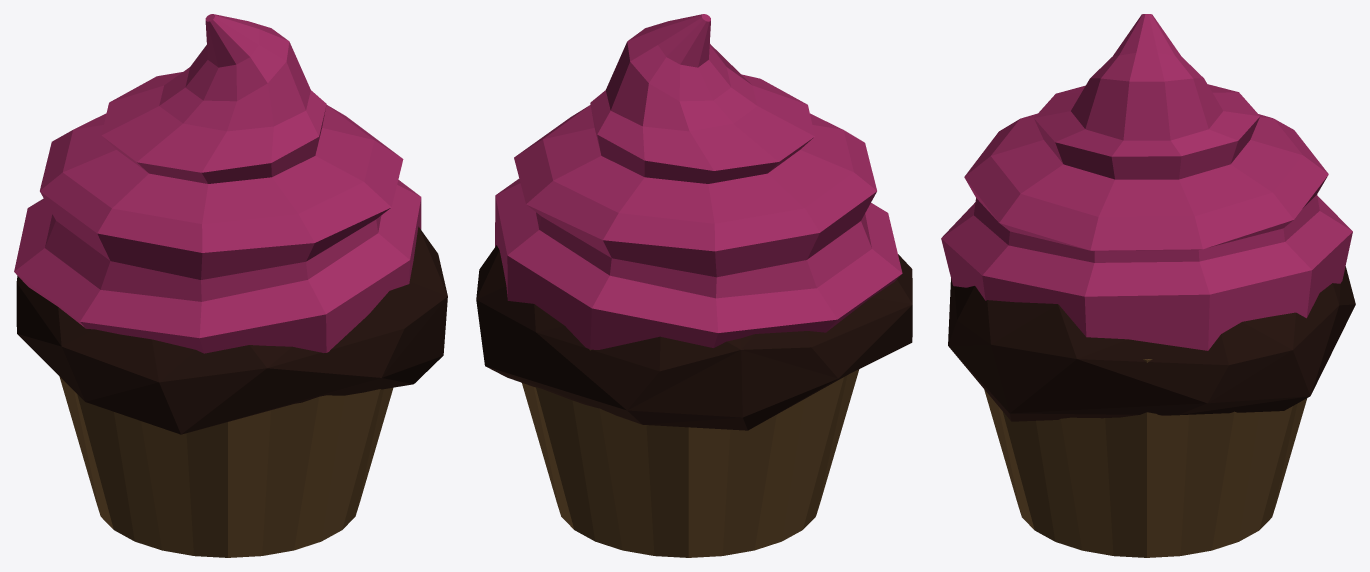
Rendered from Cupcake.obj.
3 renders of one model, left to right at view 1: azimuth 30°, elevation 25°; view 2: azimuth 150°, elevation 25°; view 3: azimuth 270°, elevation 25°, orthographic.
Visible parts, largest first — view 1: Cupcake_Cylinder.026; view 2: Cupcake_Cylinder.026; view 3: Cupcake_Cylinder.026.
Part boxes in pixels (<box>): Cupcake_Cylinder.026: <box>14,14,447,557</box>; Cupcake_Cylinder.026: <box>476,14,912,557</box>; Cupcake_Cylinder.026: <box>941,14,1355,557</box>.
Size of the model in its own units: 0.7342 by 0.9316 by 0.7258.
